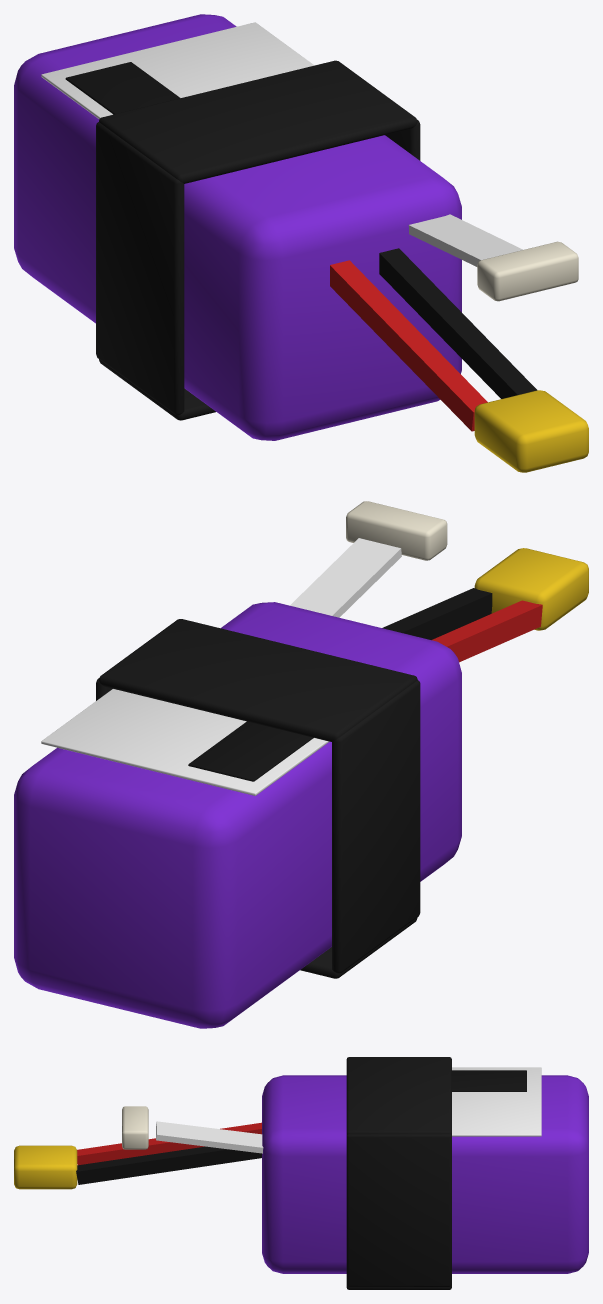
The model's file is batt_4s850.glb.
3 renders of one model, top to bottom at view 1: azimuth 30°, elevation 25°; view 2: azimuth 150°, elevation 25°; view 3: azimuth 270°, elevation 25°, orthographic. The views are drawn at different scales.
Visible parts, largest first — view 1: batt_4s850_M_Wrap_4s850, batt_4s850_M_Strap, batt_4s850_M_Label, batt_4s850_M_WireBlack, batt_4s850_M_XT60, batt_4s850_M_WireRed, batt_4s850_M_Connector; view 2: batt_4s850_M_Wrap_4s850, batt_4s850_M_Strap, batt_4s850_M_Label, batt_4s850_M_WireBlack, batt_4s850_M_XT60, batt_4s850_M_Connector, batt_4s850_M_WireRed; view 3: batt_4s850_M_Wrap_4s850, batt_4s850_M_Strap, batt_4s850_M_Label, batt_4s850_M_WireBlack, batt_4s850_M_XT60, batt_4s850_M_WireRed, batt_4s850_M_Connector.
Part boxes in pixels (box(x1,y1,x2,y2)): batt_4s850_M_Wrap_4s850: box(14, 14, 461, 440); batt_4s850_M_Strap: box(96, 60, 420, 420); batt_4s850_M_Label: box(41, 22, 523, 266); batt_4s850_M_WireBlack: box(65, 62, 536, 398); batt_4s850_M_XT60: box(474, 390, 588, 472); batt_4s850_M_WireRed: box(330, 260, 487, 431); batt_4s850_M_Connector: box(477, 241, 578, 301); batt_4s850_M_Wrap_4s850: box(14, 602, 461, 1028); batt_4s850_M_Strap: box(96, 619, 420, 978); batt_4s850_M_Label: box(41, 538, 401, 795); batt_4s850_M_WireBlack: box(188, 588, 492, 781); batt_4s850_M_XT60: box(474, 548, 588, 630); batt_4s850_M_Connector: box(346, 501, 447, 560); batt_4s850_M_WireRed: box(431, 600, 542, 662); batt_4s850_M_Wrap_4s850: box(262, 1075, 588, 1273); batt_4s850_M_Strap: box(346, 1057, 451, 1289); batt_4s850_M_Label: box(156, 1067, 541, 1153); batt_4s850_M_WireBlack: box(76, 1070, 526, 1184); batt_4s850_M_XT60: box(14, 1145, 77, 1189); batt_4s850_M_WireRed: box(77, 1122, 261, 1165); batt_4s850_M_Connector: box(122, 1106, 148, 1149).
Size of the model in its own units: 0.0348 by 0.0333 by 0.109.
